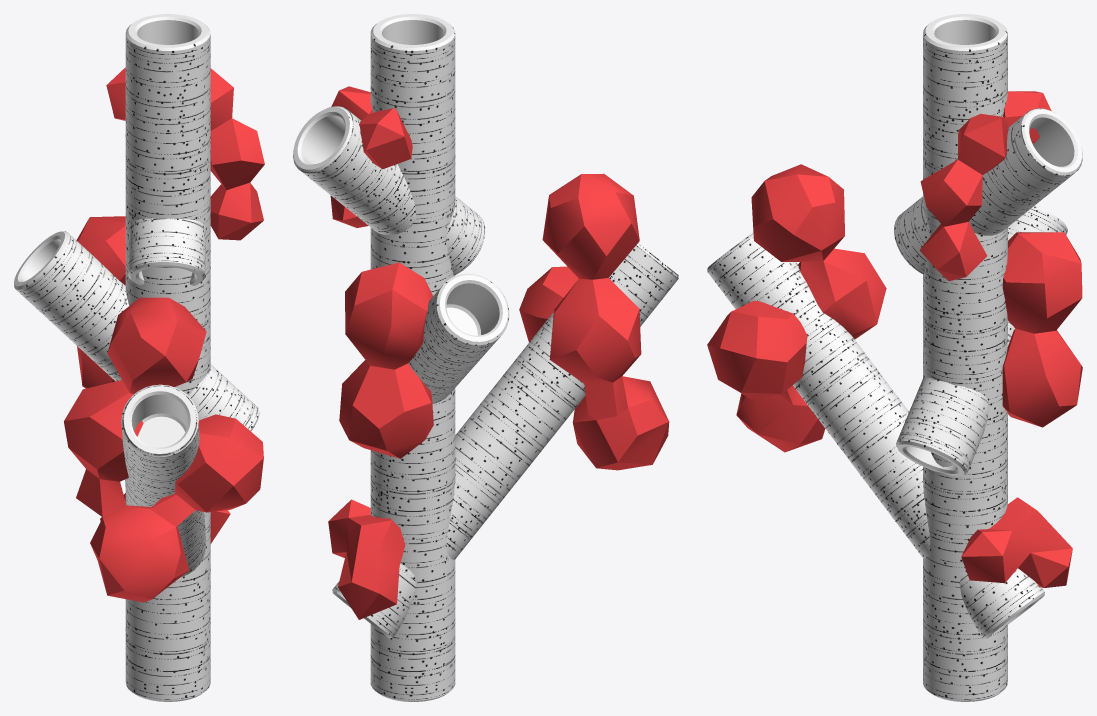
The model's file is treeC4.fbx.
3 renders of one model, left to right at view 1: azimuth 30°, elevation 25°; view 2: azimuth 150°, elevation 25°; view 3: azimuth 270°, elevation 25°, orthographic.
Parts seen in each view (by area): view 1: Cylinder.020; view 2: Cylinder.020; view 3: Cylinder.020.
Part boxes in pixels (box(x1,y1,x2,y2)): Cylinder.020: box(14, 14, 264, 701); Cylinder.020: box(293, 14, 678, 701); Cylinder.020: box(707, 14, 1082, 701).
Size of the model in its own units: 209 by 526 by 274.
